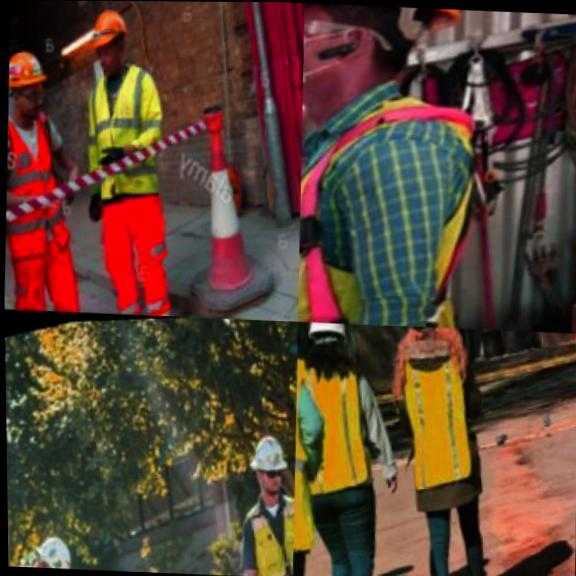safety_vest: (295, 59, 543, 330), (69, 41, 187, 204), (386, 325, 497, 490), (293, 338, 394, 498), (290, 333, 349, 576), (3, 89, 81, 224), (239, 481, 296, 576), (560, 333, 576, 435)
